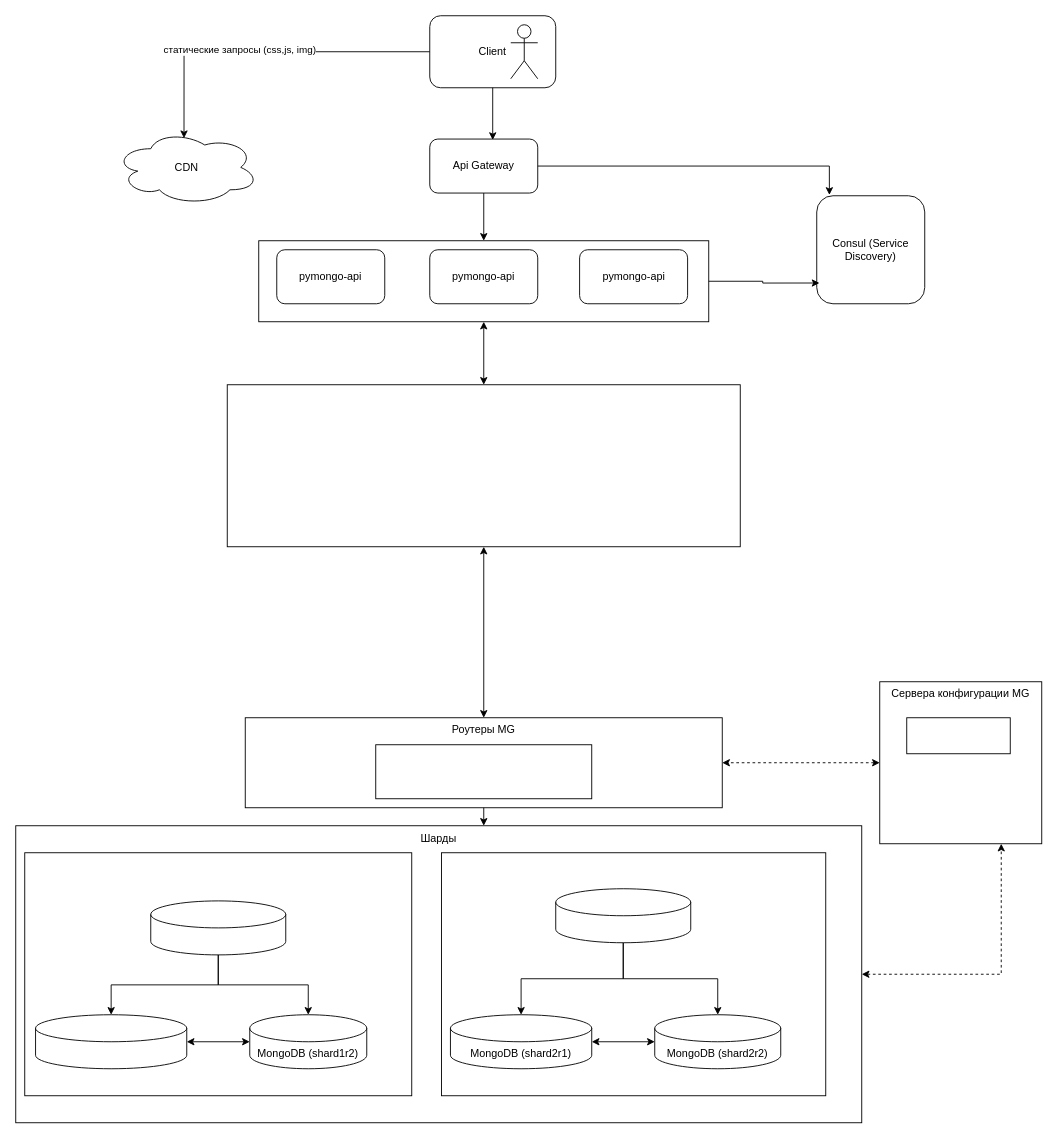
Image size: 1058x1139. Some labels were removed from this diagram. Here are the shapes that lost their labels. From the top down, the centre of each, then its label:
the point at 483,465: Redis (кэш)
the point at 958,735: configSrv
the point at 483,771: mongos_router
the point at 218,927: MongoDB (shard1)
the point at 623,915: MongoDB (shard2)
the point at 111,1041: MongoDB (shard1r1)
